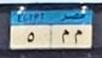5: (26, 32, 36, 43)
meem: (71, 28, 84, 47), (60, 28, 70, 45)
